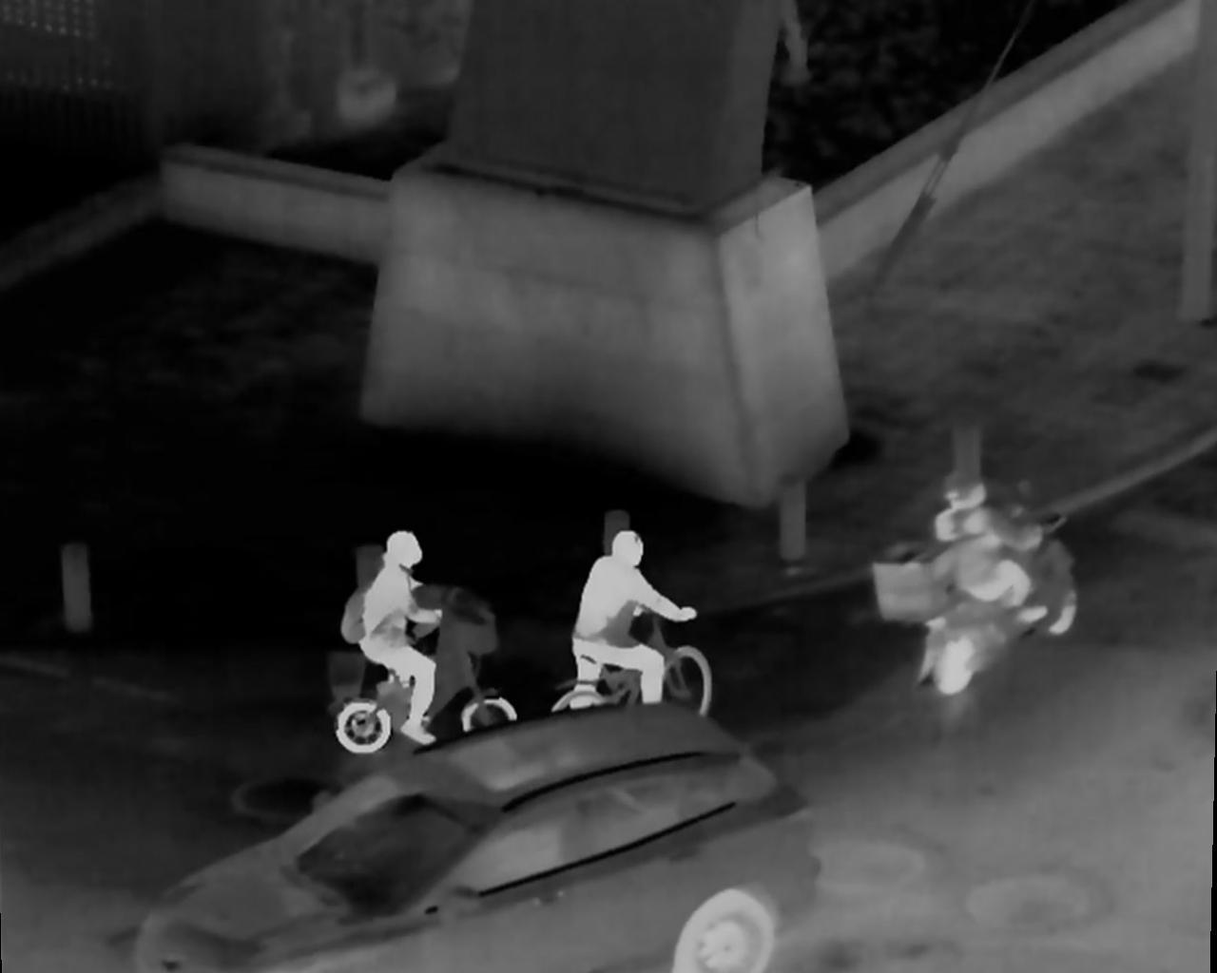person: (576, 530, 702, 733), (945, 451, 1047, 699), (359, 529, 450, 749)
